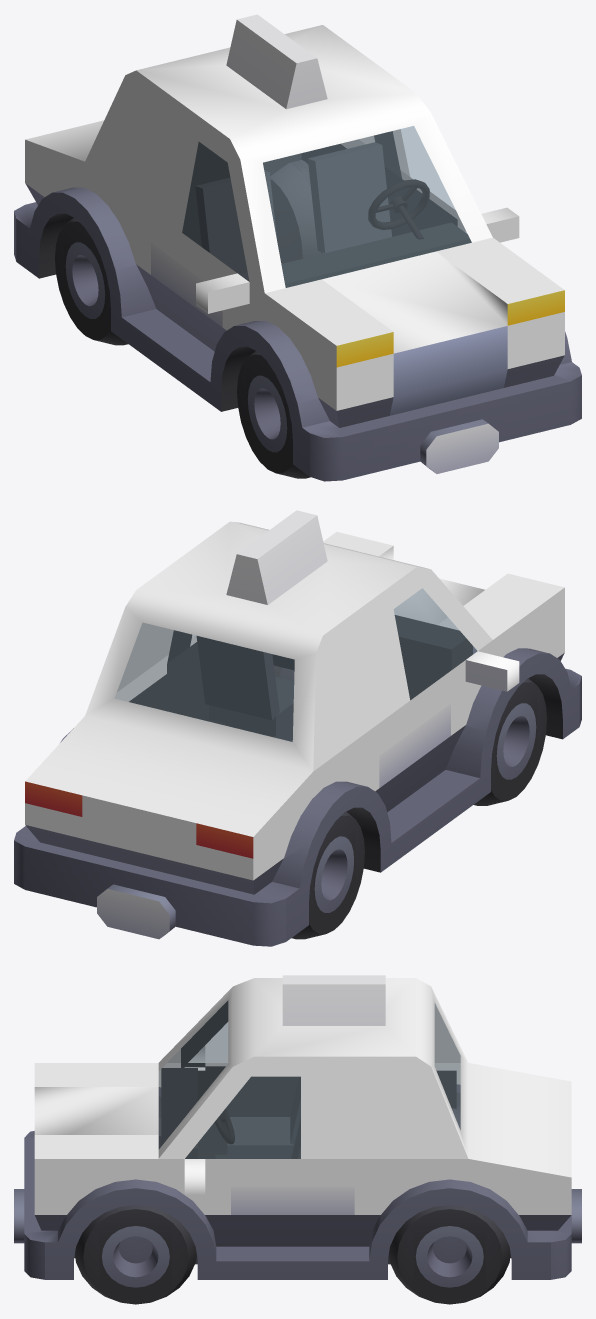
Rendered from taxi.glb.
3 renders of one model, top to bottom at view 1: azimuth 30°, elevation 25°; view 2: azimuth 150°, elevation 25°; view 3: azimuth 270°, elevation 25°, orthographic. The views are drawn at different scales.
Parts seen in each view (by area): view 1: paint, body, glass, interior, door-front-right-paint, wheel-front-right, wheel-back-right, door-front-right-glass, wheel-back-left, door-front-right-panel, steering-wheel, door-front-left-glass (+2 smaller); view 2: paint, body, glass, interior, door-front-right-paint, wheel-back-right, wheel-front-right, door-front-right-glass, door-front-right-panel, door-front-left-trim; view 3: paint, body, door-front-left-paint, interior, wheel-front-left, wheel-back-left, door-front-left-panel, door-front-left-glass, glass, door-front-right-trim, door-front-right-glass, steering-wheel.
Part boxes in pixels (x1,y1,x2,y2): paint: [25, 25, 564, 410]; body: [14, 14, 581, 481]; glass: [263, 126, 471, 287]; interior: [182, 142, 471, 287]; door-front-right-paint: [159, 125, 257, 330]; wheel-front-right: [237, 350, 310, 478]; wheel-back-right: [55, 217, 128, 345]; door-front-right-glass: [182, 142, 248, 280]; wheel-back-left: [270, 160, 321, 263]; door-front-right-panel: [159, 248, 226, 384]; steering-wheel: [368, 179, 429, 239]; door-front-left-glass: [401, 126, 454, 208]; paint: [25, 521, 564, 880]; body: [14, 510, 581, 946]; glass: [115, 588, 458, 741]; interior: [129, 615, 472, 741]; door-front-right-paint: [370, 577, 519, 749]; wheel-back-right: [291, 811, 364, 939]; wheel-front-right: [473, 678, 546, 805]; door-front-right-glass: [394, 588, 476, 699]; door-front-right-panel: [381, 703, 486, 810]; door-front-left-trim: [167, 630, 198, 673]; paint: [34, 978, 571, 1214]; body: [14, 975, 581, 1279]; door-front-left-paint: [181, 1076, 340, 1214]; interior: [161, 1068, 456, 1264]; wheel-front-left: [75, 1205, 196, 1304]; wheel-back-left: [388, 1205, 510, 1304]; door-front-left-panel: [204, 1187, 340, 1258]; door-front-left-glass: [185, 1077, 300, 1158]; glass: [159, 1001, 460, 1148]; door-front-right-trim: [181, 1001, 228, 1158]; door-front-right-glass: [188, 1022, 227, 1062]; steering-wheel: [214, 1108, 234, 1144].
Bounding box in the file's own units: 2.33 × 2.32 × 4.26.
Materials: 4 (1 with a texture image).
